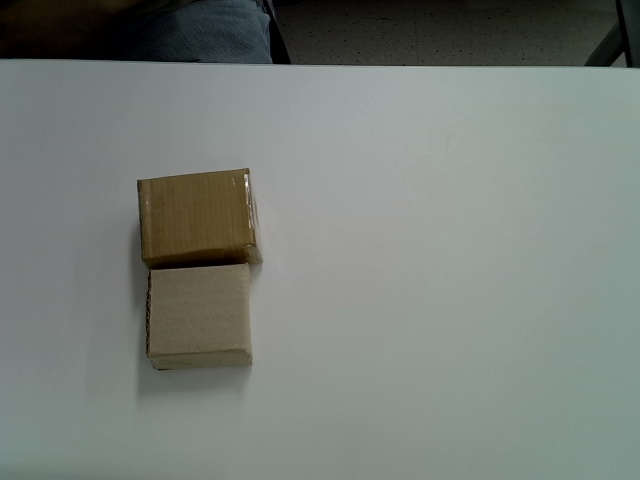normal: (136, 167, 266, 269), (146, 264, 254, 371)
